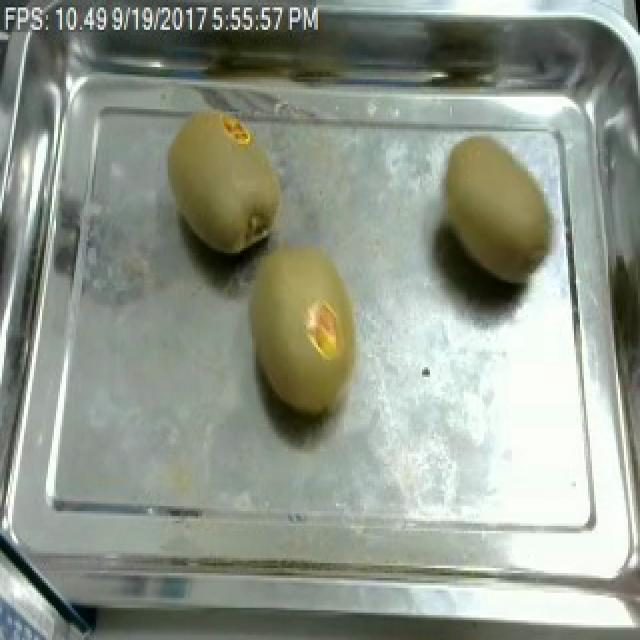Fruit: (234, 228, 372, 429), (428, 126, 566, 298), (158, 104, 294, 266)
